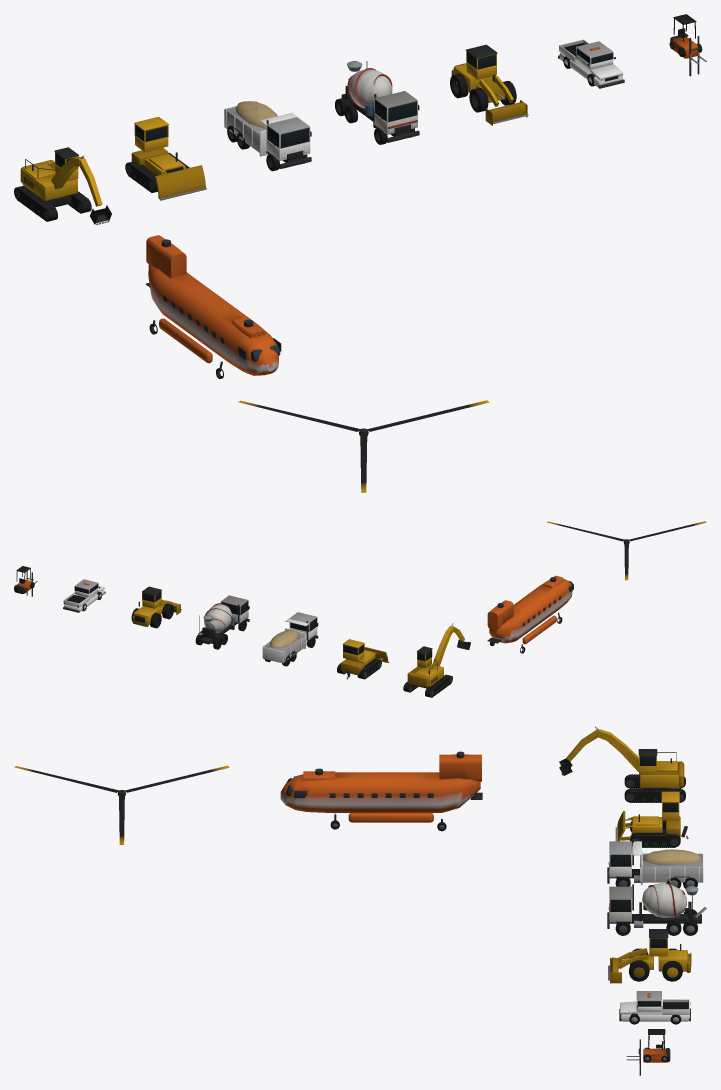
The model's file is machines.glb.
3 renders of one model, top to bottom at view 1: azimuth 30°, elevation 25°; view 2: azimuth 150°, elevation 25°; view 3: azimuth 270°, elevation 25°, orthographic. The views are drawn at different scales.
Parts seen in each view (by area): view 1: H_body, V_mixer, V_dump, V_dozer, V_loader, V_exc_upper, V_pickup, H_rotor, V_exc_base, V_forklift; view 2: H_body, V_dump, V_mixer, V_exc_upper, V_dozer, V_loader, V_pickup, H_rotor, V_exc_base, V_forklift; view 3: H_body, V_mixer, V_dump, V_loader, V_exc_upper, V_dozer, V_pickup, H_rotor, V_exc_base, V_forklift.
Boxes of the visible parts, x1,y1,x2,y2 form: H_body: (145, 235, 281, 378); V_mixer: (335, 60, 419, 144); V_dump: (224, 101, 311, 171); V_dozer: (125, 116, 206, 200); V_loader: (450, 44, 528, 125); V_exc_upper: (20, 147, 111, 224); V_pickup: (558, 39, 624, 88); H_rotor: (238, 400, 489, 492); V_exc_base: (14, 185, 91, 221); V_forklift: (669, 14, 706, 76); H_body: (487, 575, 573, 653); V_dump: (262, 612, 318, 666); V_mixer: (195, 595, 249, 649); V_exc_upper: (407, 623, 470, 687); V_dozer: (337, 639, 388, 679); V_loader: (131, 586, 181, 628); V_pickup: (63, 579, 105, 612); H_rotor: (547, 521, 706, 580); V_exc_base: (403, 674, 452, 697); V_forklift: (14, 566, 37, 596); H_body: (280, 751, 482, 831); V_mixer: (607, 882, 706, 935); V_dump: (607, 839, 703, 888); V_loader: (608, 929, 691, 983); V_exc_upper: (559, 726, 684, 787); V_dozer: (615, 791, 688, 847); V_pickup: (619, 991, 690, 1024); H_rotor: (14, 765, 229, 844); V_exc_base: (624, 774, 685, 802); V_forklift: (626, 1029, 670, 1075).
Size of the model in its own units: 52.51 by 7.68 by 51.97.
